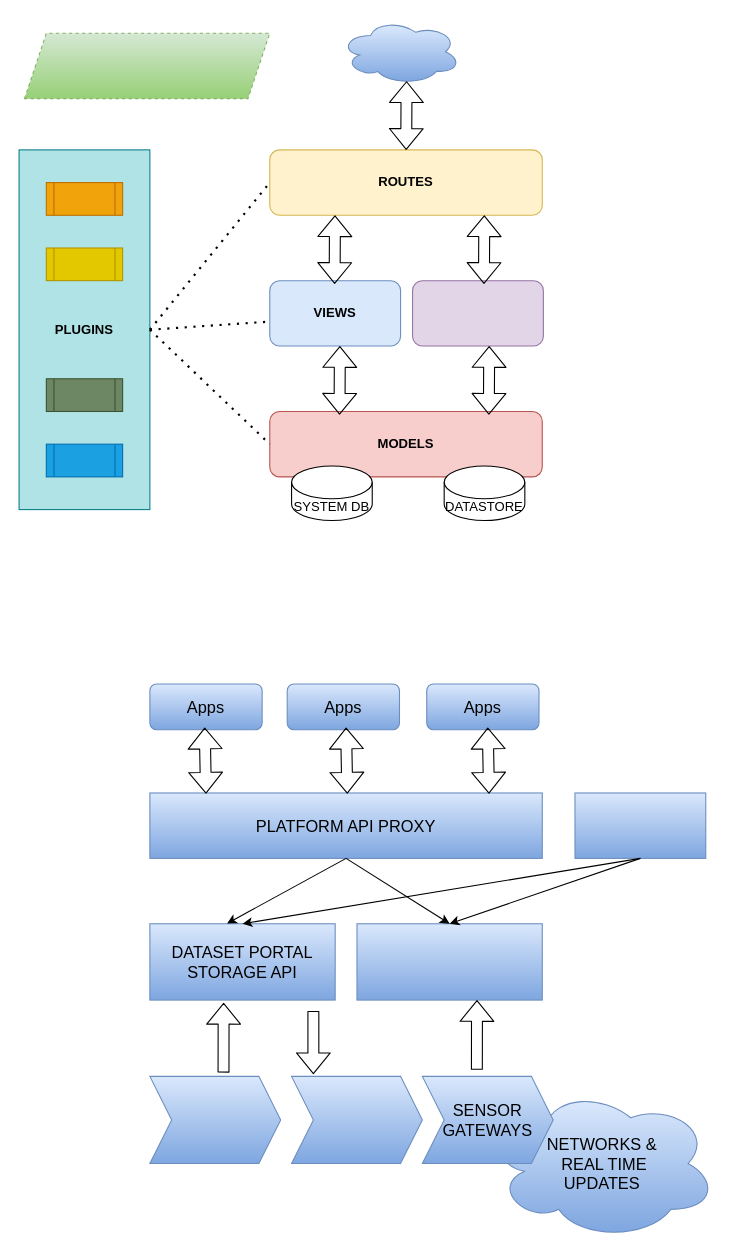
Image size: 736x1259. Some labels were removed from this diagram. The shapes that lost their labels are listed below. From the top down, each one's centre as x and y in pixels, then its label:
(x=146, y=65): 资产管理平台系统架构图
(x=400, y=51): 互联网
(x=477, y=313): APIS
(x=640, y=825): EXTERNAL SITE APIS
(x=449, y=961): PLUGIN DATA PORTAL AND API
(x=215, y=1119): UPLOADED FILES
(x=356, y=1119): EXTERNAL STATIC DATA
